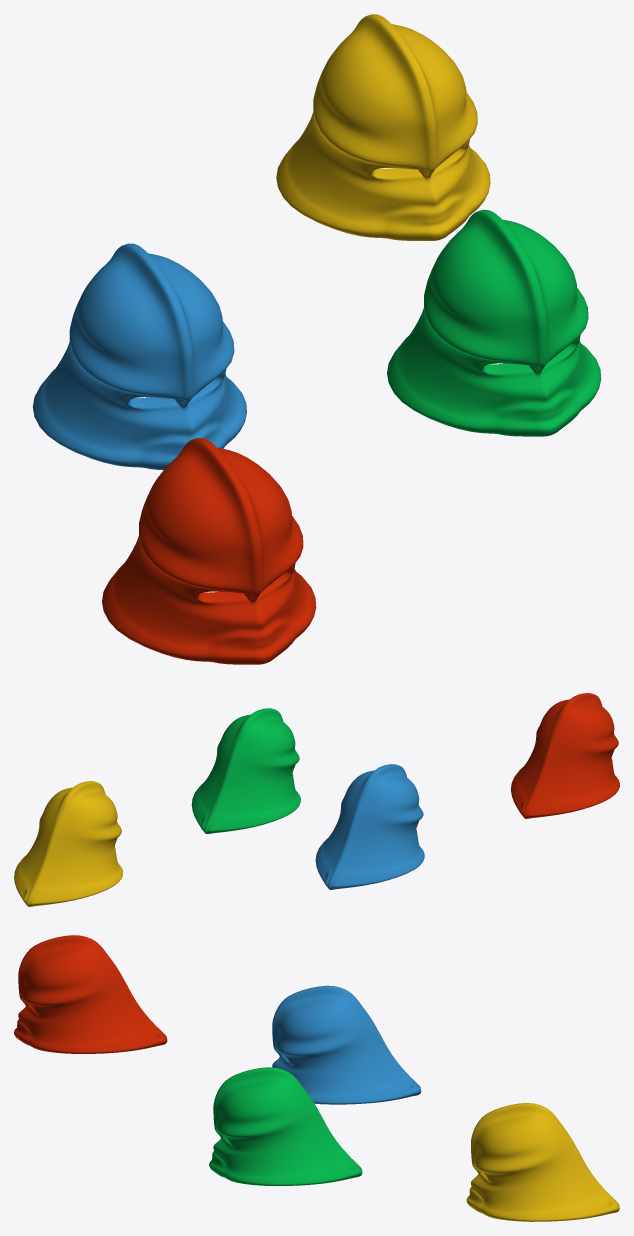
File: character.fbx
3 views of the same model, one above another, from view 1: azimuth 30°, elevation 25°; view 2: azimuth 150°, elevation 25°; view 3: azimuth 270°, elevation 25° (orthographic). The views are drawn at different scales.
Visible parts, largest first — view 1: Helmet.002, Helmet.001, Helmet.003, Helmet; view 2: Helmet.001, Helmet.003, Helmet, Helmet.002; view 3: Helmet.002, Helmet.003, Helmet.001, Helmet.
Boxes of the visible parts, x1=… form: Helmet.002: x1=276, y1=14, x2=490, y2=240; Helmet.001: x1=387, y1=209, x2=601, y2=436; Helmet.003: x1=102, y1=438, x2=316, y2=664; Helmet: x1=32, y1=243, x2=246, y2=469; Helmet.001: x1=191, y1=708, x2=300, y2=833; Helmet.003: x1=511, y1=693, x2=619, y2=818; Helmet: x1=315, y1=764, x2=424, y2=889; Helmet.002: x1=14, y1=781, x2=122, y2=906; Helmet.002: x1=466, y1=1103, x2=619, y2=1221; Helmet.003: x1=14, y1=935, x2=167, y2=1053; Helmet.001: x1=209, y1=1067, x2=362, y2=1185; Helmet: x1=272, y1=985, x2=421, y2=1104.
Size of the model in its own units: 569 by 147 by 707.
